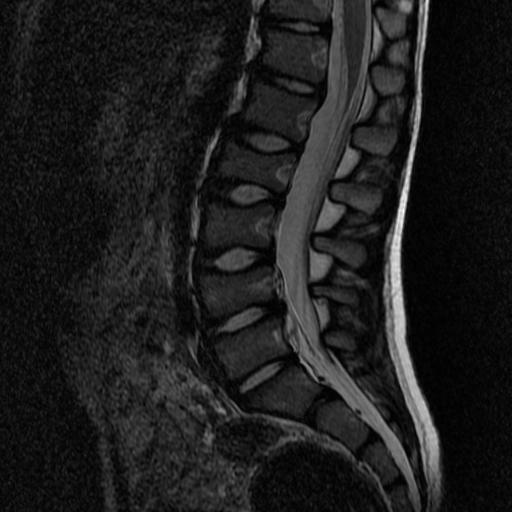D1: (225, 114, 304, 156)
